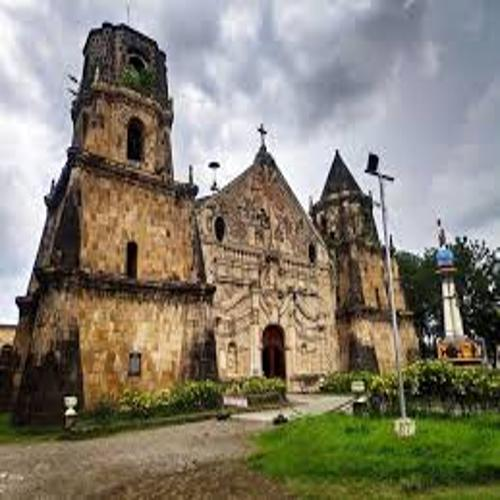Miagao Church: (29, 17, 421, 405)
